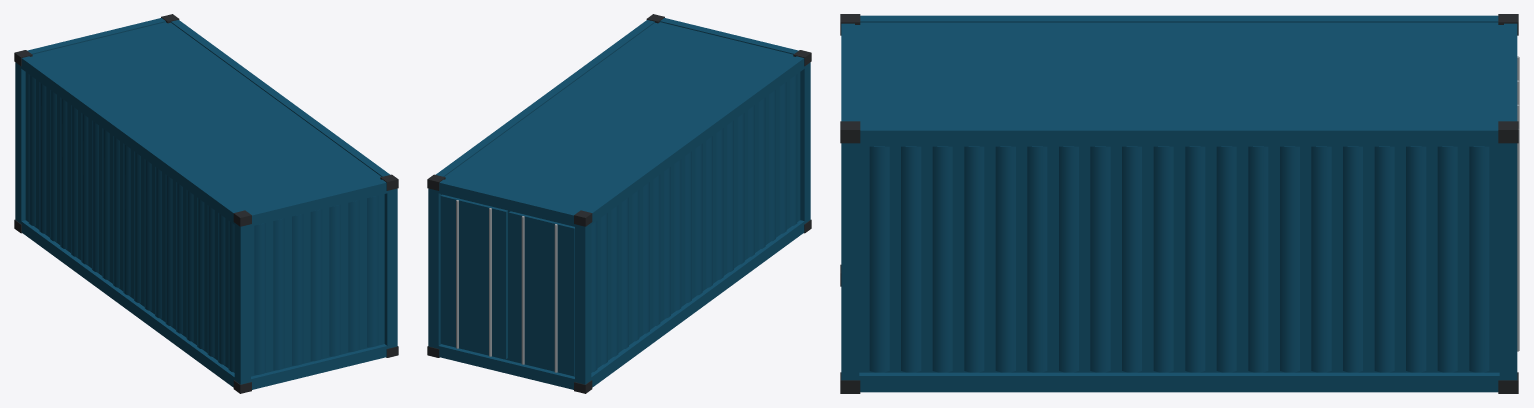
Rendered from plant.cabin.store.glb.
3 views of the same model, side by side, from view 1: azimuth 30°, elevation 25°; view 2: azimuth 150°, elevation 25°; view 3: azimuth 270°, elevation 25° (orthographic). The views are drawn at different scales.
Visible parts, largest first — view 1: main__container_blue, frame__container_blue, frame__steel_dark; view 2: main__container_blue, frame__container_blue, main__steel_galvanised, frame__steel_dark; view 3: main__container_blue, frame__container_blue, frame__steel_dark, main__steel_galvanised.
Part boxes in pixels (x1,y1,x2,y2): main__container_blue: (25, 22, 384, 376); frame__container_blue: (15, 18, 397, 389); frame__steel_dark: (14, 14, 398, 393); main__container_blue: (440, 22, 800, 376); frame__container_blue: (428, 18, 810, 389); main__steel_galvanised: (456, 200, 557, 372); frame__steel_dark: (427, 14, 811, 393); main__container_blue: (855, 22, 1503, 372); frame__container_blue: (841, 15, 1517, 392); frame__steel_dark: (840, 14, 1518, 393); main__steel_galvanised: (1517, 56, 1519, 351).
Bounding box in the file's own units: 2.46 × 2.61 × 6.09.
